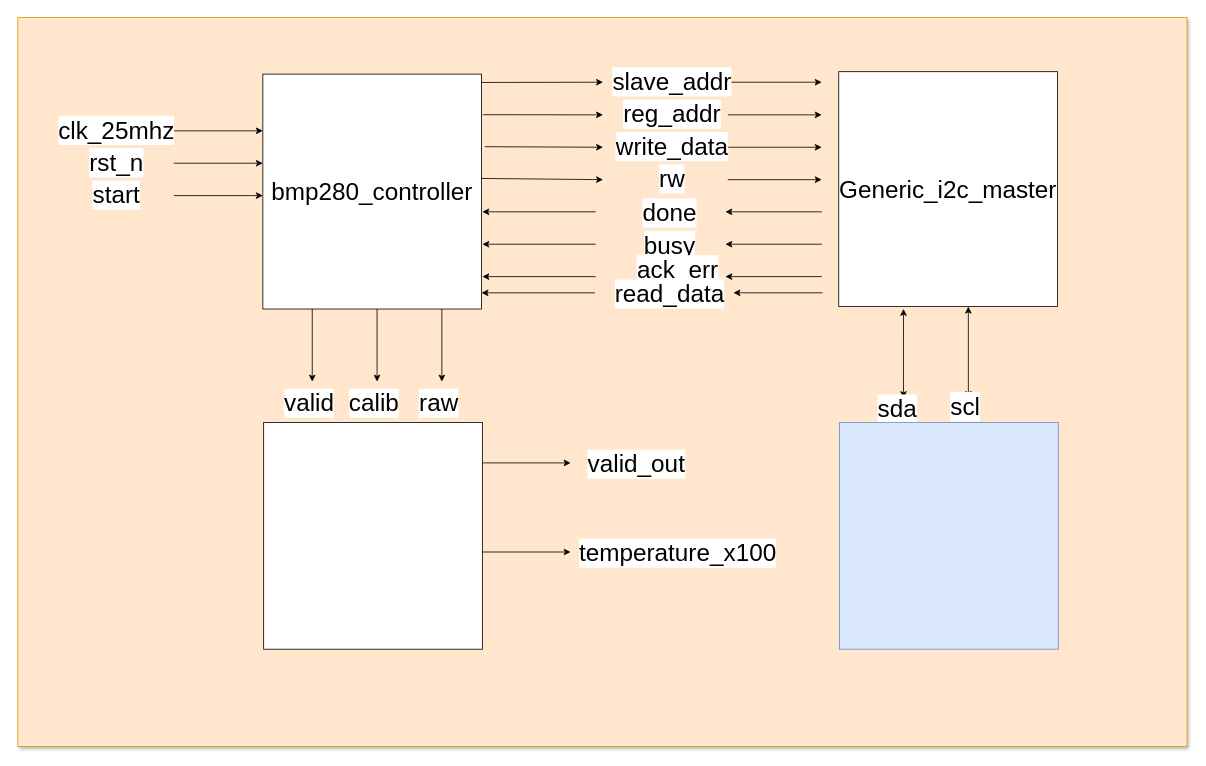
Image size: 1206x766. Some labels were removed from this diagram. Each missing label, with the centre of its shape:
"BMP280" belongs at (948,535).
"Temperature Calculation" belongs at (372,535).
